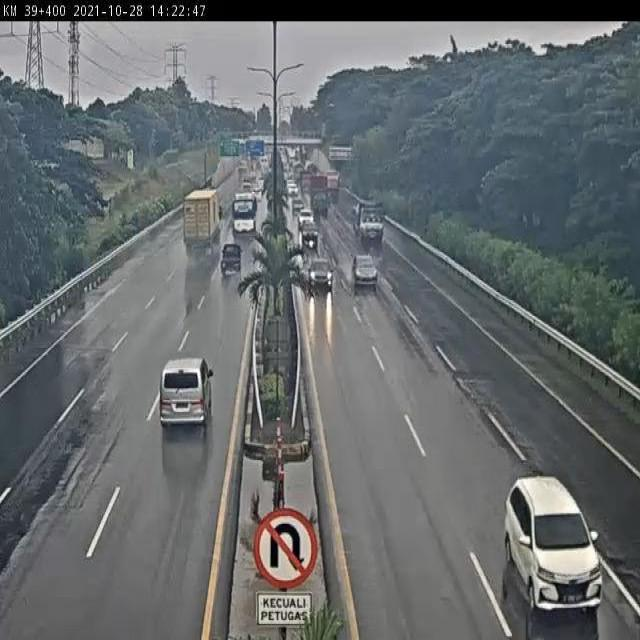car: (157, 356, 215, 432), (307, 255, 334, 295)
truck: (184, 189, 221, 248), (353, 201, 388, 247), (230, 192, 257, 239)
